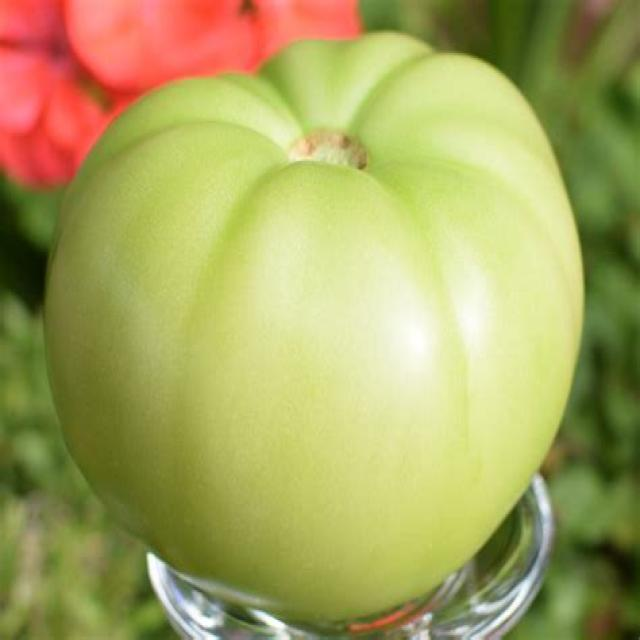Tomato: (41, 30, 586, 640)
